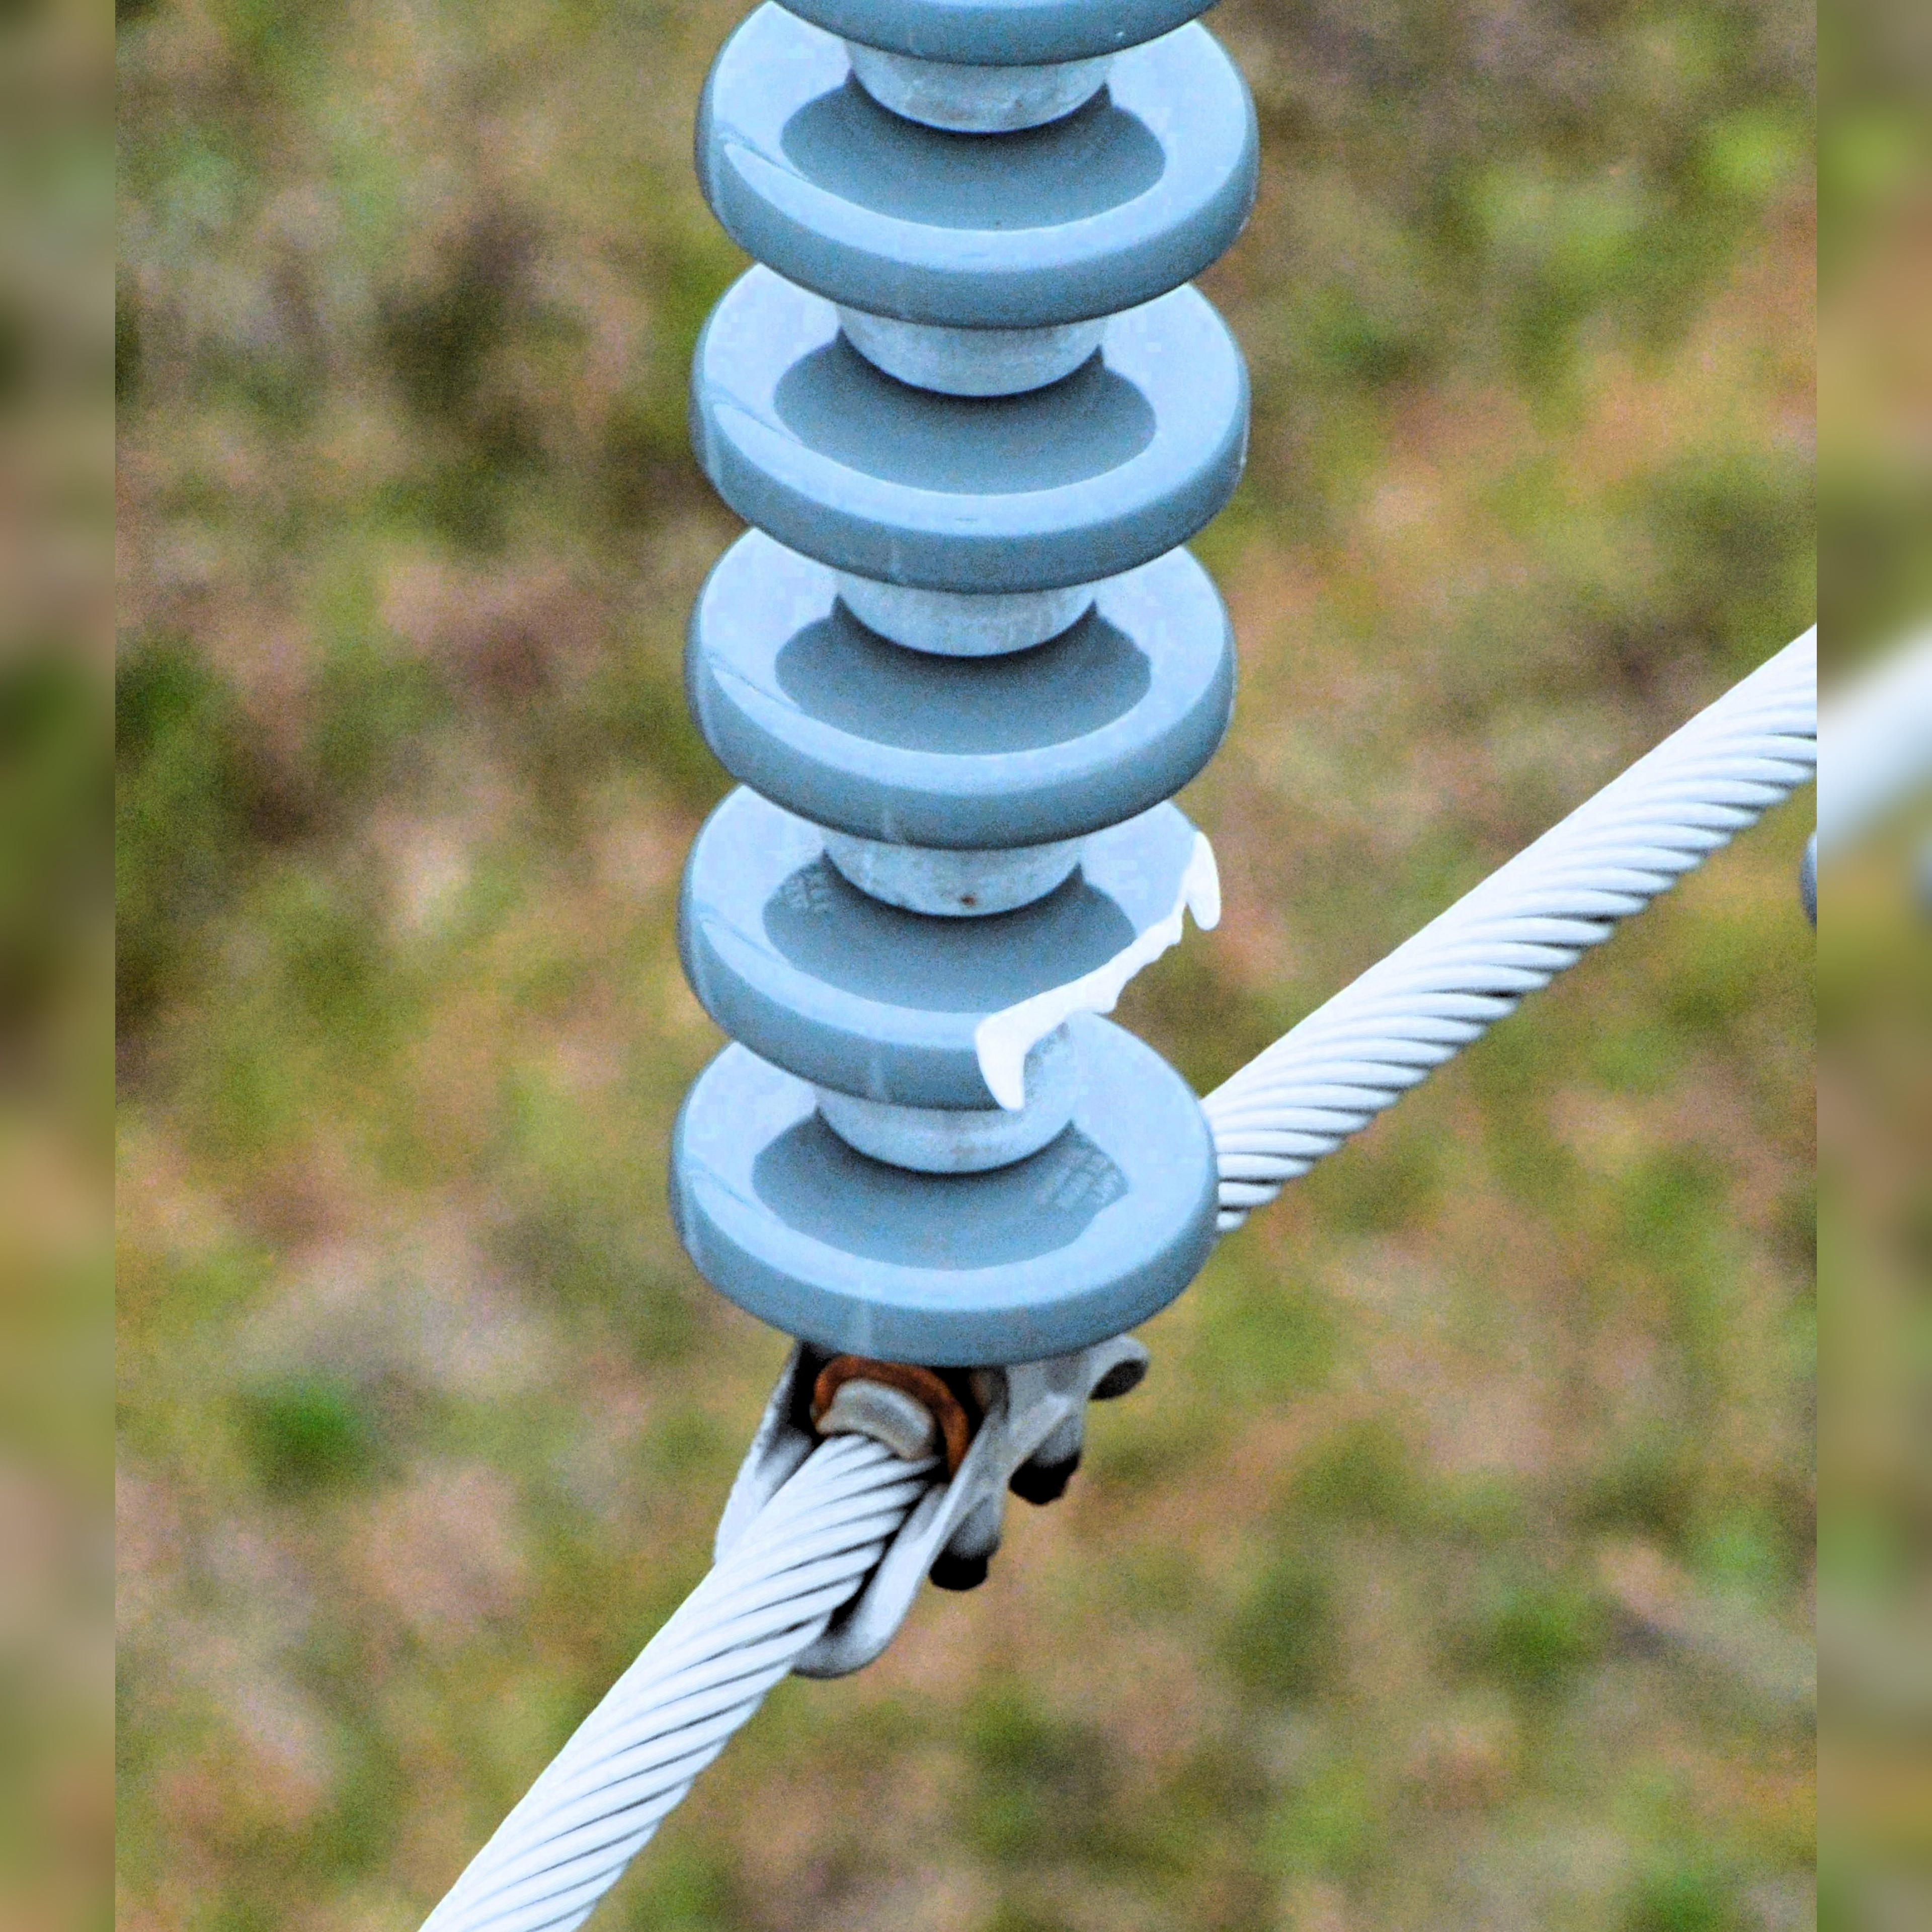insulator breakage: (656, 789, 1251, 1129)
